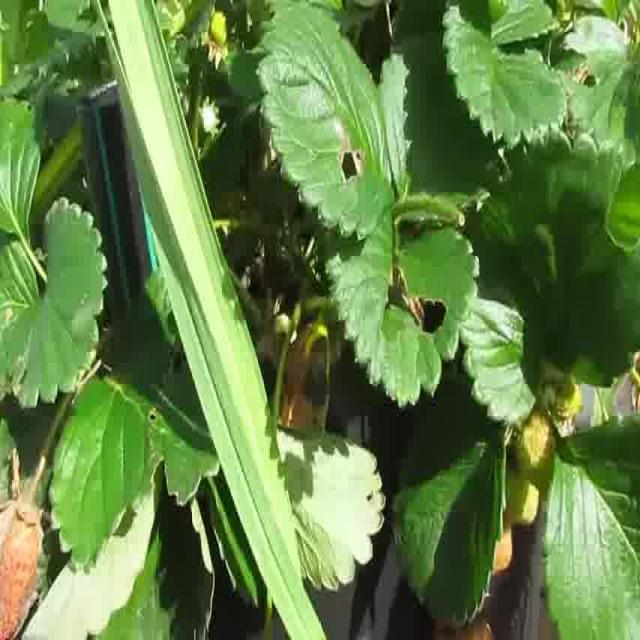Fruta sana: (512, 404, 555, 484), (504, 463, 540, 527), (488, 523, 514, 577)
Moho gris: (0, 489, 44, 638)
